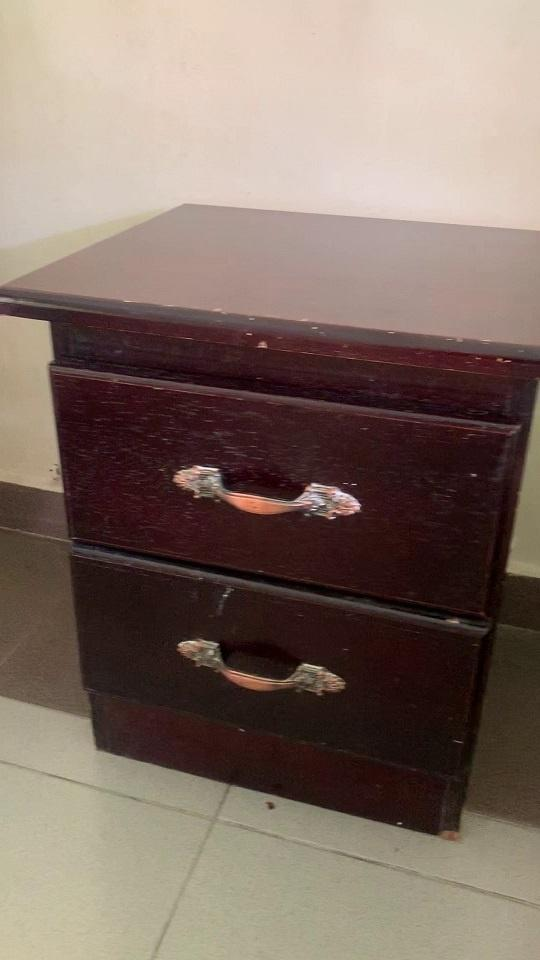cabinet_door: (56, 389, 510, 575), (76, 582, 474, 758)
handle: (178, 635, 351, 711), (168, 468, 366, 534)
